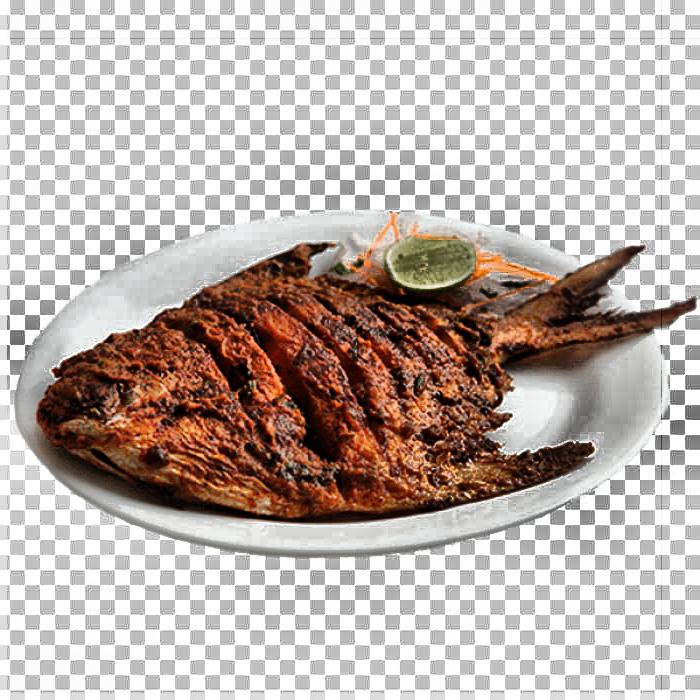fish: (26, 174, 682, 547)
